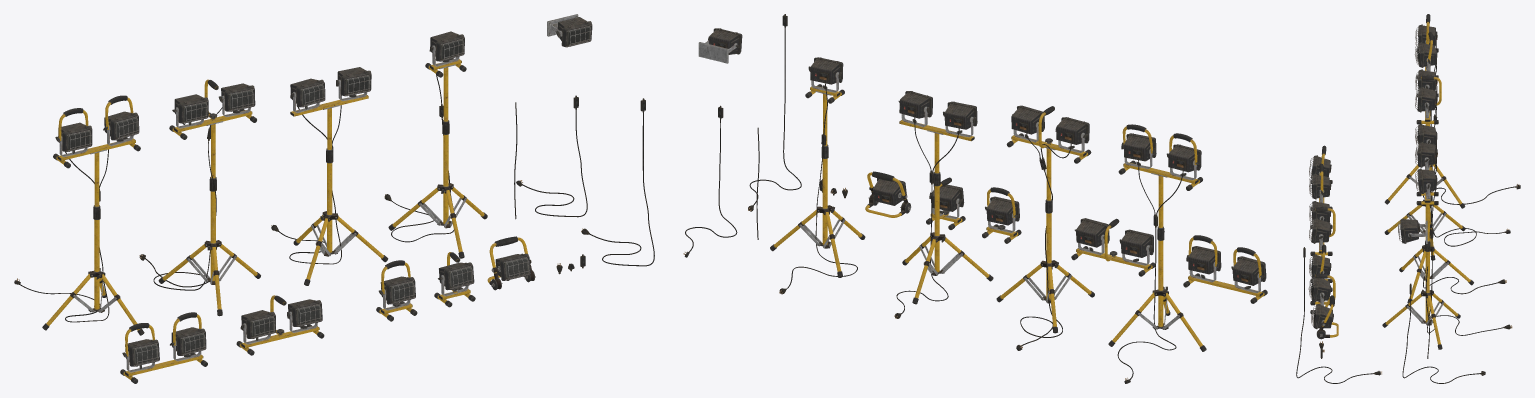
Rendered from flood_lights.glb.
The picture shows the model from 3 angles, left to right: view 1: azimuth 30°, elevation 25°; view 2: azimuth 150°, elevation 25°; view 3: azimuth 270°, elevation 25°; orthographic projection. The views are drawn at different scales.
Visible parts, largest first — view 1: flood_lights_standing_double_c_stand, flood_lights_standing_single_stand, flood_lights_standing_double_b_stand, flood_lights_standing_double_a_stand, flood_lights_wall_light, flood_lights_standing_double_c_light_02, flood_lights_standing_double_b_light_01, flood_lights_standing_double_a_bar, flood_lights_standing_single_light, flood_lights_standing_double_b_light_02, flood_lights_standing_double_c_light_01, flood_lights_floor_double_b_light_01 (+14 smaller); view 2: flood_lights_standing_double_c_stand, flood_lights_standing_single_stand, flood_lights_standing_double_b_stand, flood_lights_standing_double_a_stand, flood_lights_standing_double_a_bar, flood_lights_standing_double_c_light_01, flood_lights_floor_double_b_light_01, flood_lights_standing_double_b_light_01, flood_lights_standing_single_light, flood_lights_floor_double_a_light_01, flood_lights_standing_double_c_light_02, flood_lights_floor_double_b_light_02 (+17 smaller); view 3: flood_lights_standing_single_stand, flood_lights_standing_double_c_stand, flood_lights_standing_double_b_stand, flood_lights_standing_double_a_stand, flood_lights_standing_double_b_light_02, flood_lights_standing_double_c_light_02, flood_lights_floor_single_b_light, flood_lights_standing_single_light, flood_lights_floor_double_b_light_02, flood_lights_wall_light, flood_lights_standing_double_a_light_02, flood_lights_floor_single_light_c (+15 smaller).
Part boxes in pixels (x1,y1,x2,y2): flood_lights_standing_double_c_stand: (293,148,388,285); flood_lights_standing_single_stand: (388,120,487,258); flood_lights_standing_double_b_stand: (158,177,260,316); flood_lights_standing_double_a_stand: (42,205,144,335); flood_lights_wall_light: (556,17,592,47); flood_lights_standing_double_c_light_02: (336,67,371,96); flood_lights_standing_double_b_light_01: (172,94,208,123); flood_lights_standing_double_a_bar: (53,137,140,206); flood_lights_standing_single_light: (429,31,464,61); flood_lights_standing_double_b_light_02: (218,83,255,111); flood_lights_standing_double_c_light_01: (290,78,325,107); flood_lights_floor_double_b_light_01: (240,310,275,338); flood_lights_standing_double_c_stand: (902,172,993,304); flood_lights_standing_single_stand: (770,144,865,277); flood_lights_standing_double_b_stand: (996,199,1094,333); flood_lights_standing_double_a_stand: (1108,226,1206,351); flood_lights_standing_double_a_bar: (1118,160,1202,227); flood_lights_standing_double_c_light_01: (943,101,977,129); flood_lights_floor_double_b_light_01: (1119,229,1153,257); flood_lights_standing_double_b_light_01: (1055,117,1089,144); flood_lights_standing_single_light: (808,57,843,84); flood_lights_floor_double_a_light_01: (1232,256,1266,285); flood_lights_standing_double_c_light_02: (898,91,932,118); flood_lights_floor_double_b_light_02: (1074,218,1109,247); flood_lights_standing_single_stand: (1382,240,1460,349); flood_lights_standing_double_c_stand: (1399,204,1473,303); flood_lights_standing_double_b_stand: (1384,199,1465,260); flood_lights_standing_double_a_stand: (1384,111,1465,208); flood_lights_standing_double_b_light_02: (1415,87,1437,112); flood_lights_standing_double_c_light_02: (1415,142,1437,167); flood_lights_floor_single_b_light: (1308,277,1331,302); flood_lights_standing_single_light: (1415,168,1437,193); flood_lights_floor_double_b_light_02: (1309,218,1331,243); flood_lights_wall_light: (1398,218,1420,243); flood_lights_standing_double_a_light_02: (1414,42,1437,67); flood_lights_floor_single_light_c: (1311,304,1333,329).
Size of the model in its own units: 4.6 by 1.81 by 2.11.
Materials: 2 (2 with a texture image).
